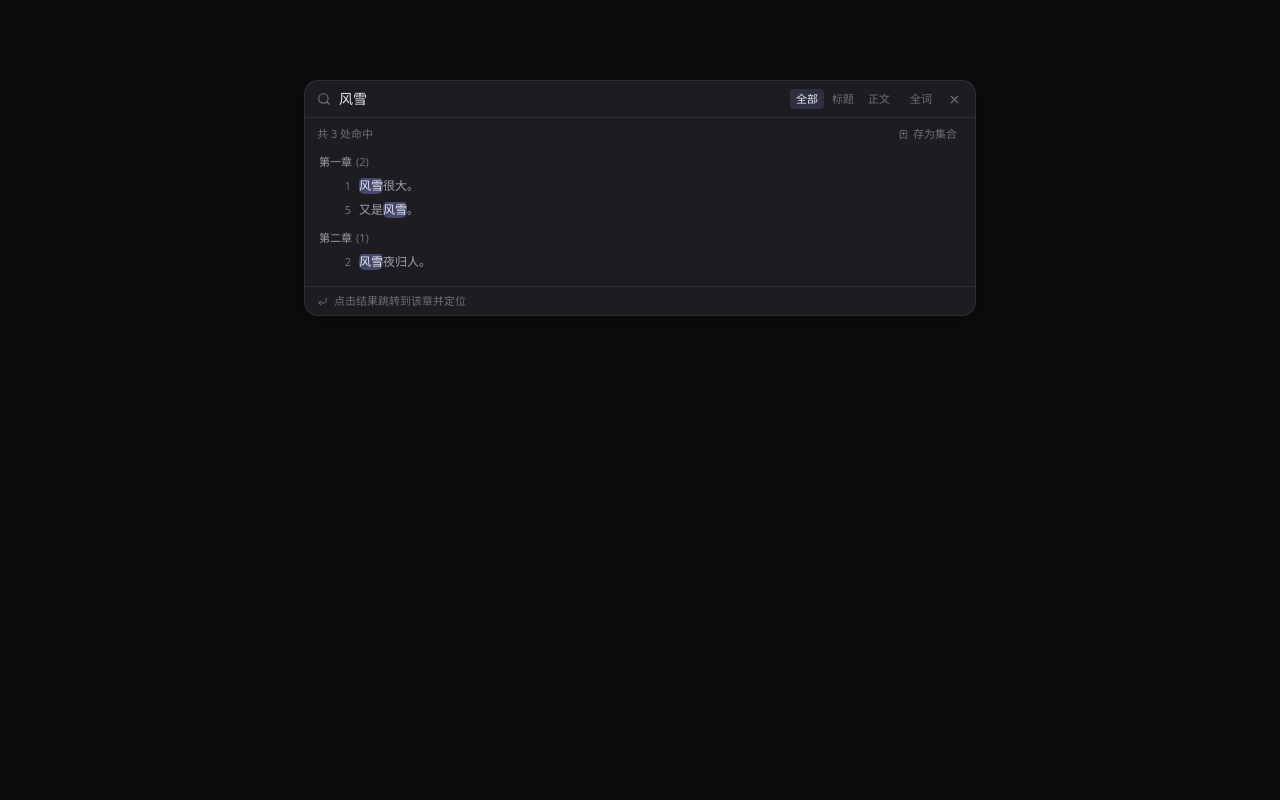
Test: SearchPanel › 存为集合：把当前查询固化为搜索集合
The image size is (1280, 800).
Expected: the text "共 3 处命中" is shown, [317,126,373,141]
Step 1. Click the button titled "把当前查询存为搜索集合" → (928, 134), box [892,124,963,144]
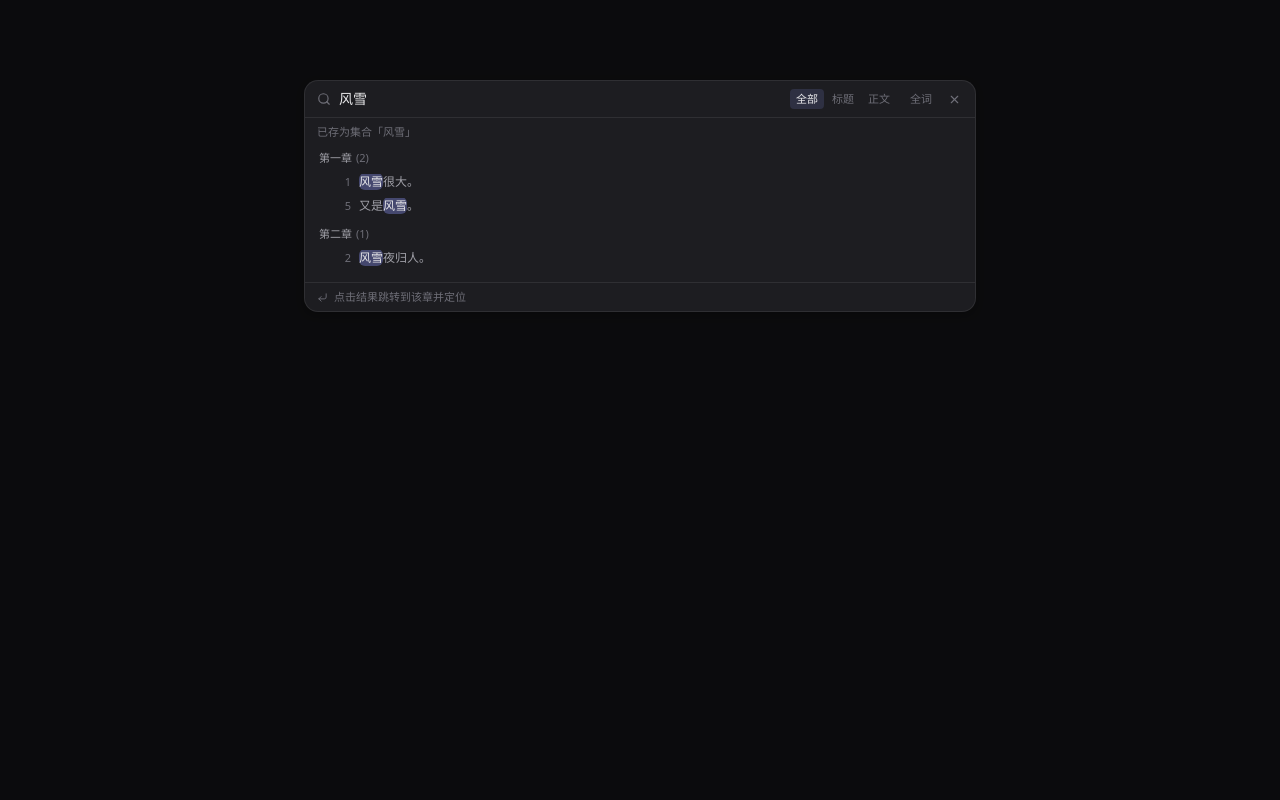
Expected: the text "已存为集合「风雪」" is shown, [317,124,416,139]
